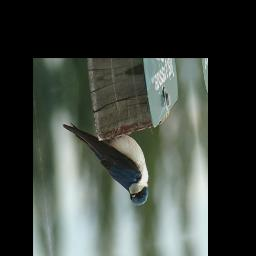Swallow: (62, 104, 152, 222)
